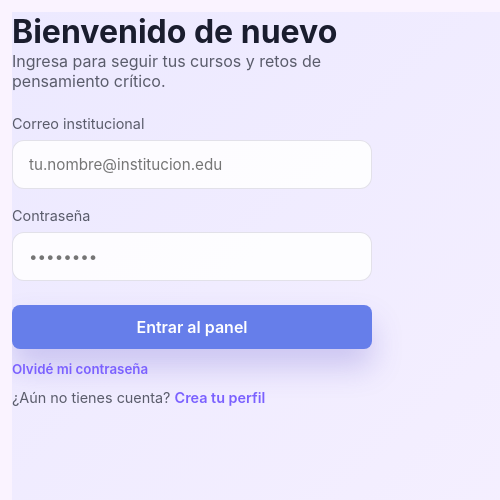
Test: LoginPage › habilita flujo de recuperación de contraseña
Type "student@test.com" into the field labelled "Correo institucional" at (192, 164), box [12, 140, 372, 189]
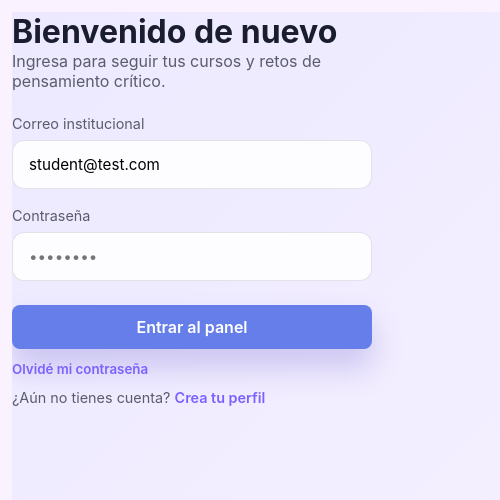
Click the button "Olvidé mi contraseña" at (80, 369), box [12, 361, 148, 377]
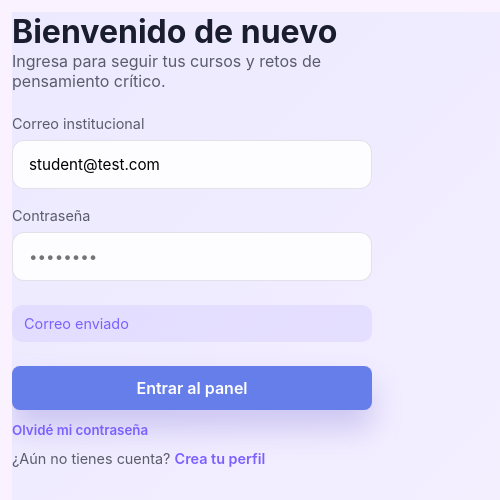
Expected: the text "Correo enviado" is shown, [12, 305, 372, 342]
